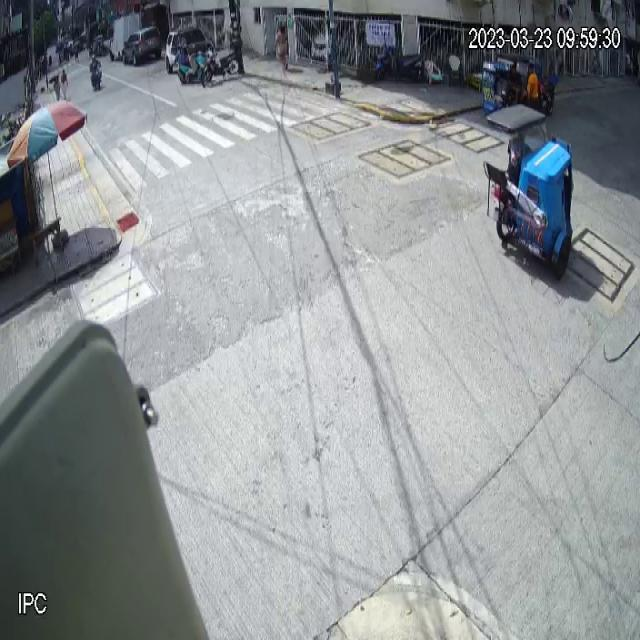Tricycle: (482, 103, 574, 279)
